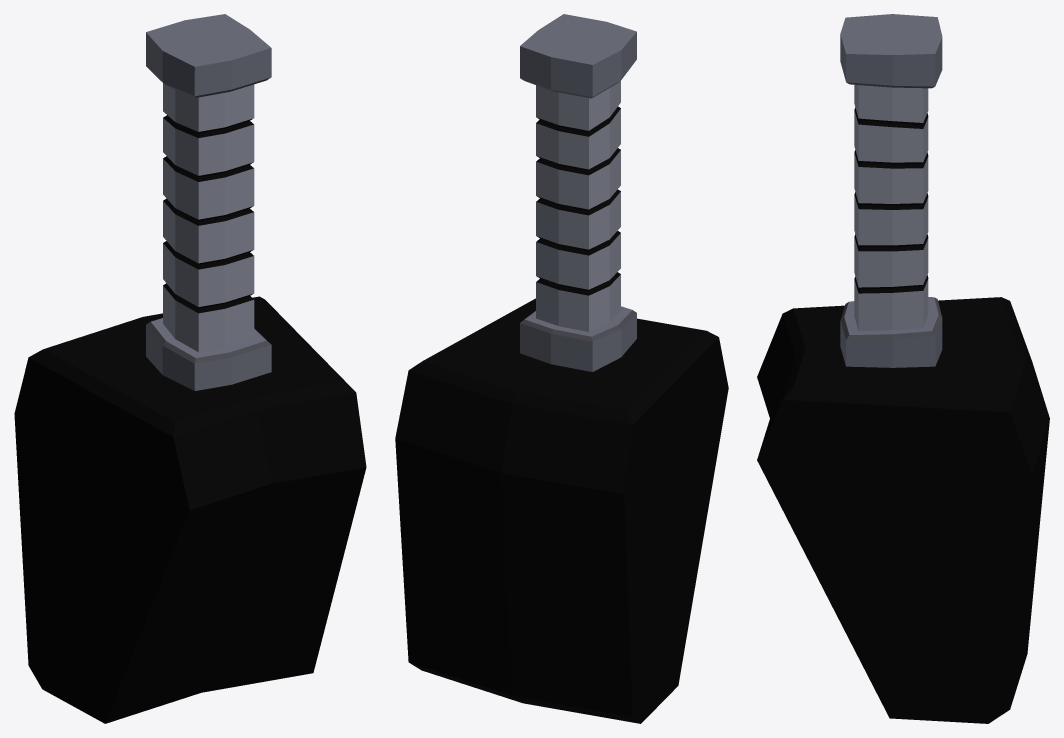
File: Column.fbx
The picture shows the model from 3 angles, left to right: view 1: azimuth 30°, elevation 25°; view 2: azimuth 150°, elevation 25°; view 3: azimuth 270°, elevation 25°; orthographic projection. The views are drawn at different scales.
Visible parts, largest first — view 1: Cylinder.001, Cube; view 2: Cylinder.001, Cube; view 3: Cylinder.001, Cube.
Part boxes in pixels (x1=…): Cylinder.001: x1=14, y1=296, x2=366, y2=723; Cube: x1=146, y1=14, x2=271, y2=390; Cylinder.001: x1=395, y1=298, x2=728, y2=723; Cube: x1=520, y1=14, x2=636, y2=371; Cylinder.001: x1=757, y1=297, x2=1049, y2=723; Cube: x1=840, y1=14, x2=942, y2=367.
Size of the model in its own units: 4.22 by 10.96 by 4.59.
Materials: 1 (1 with a texture image).
